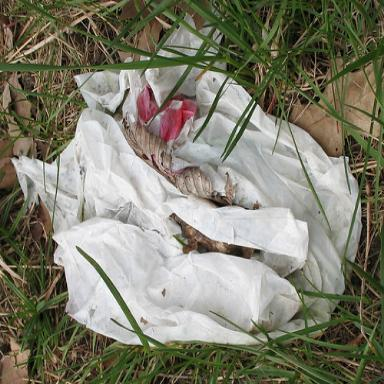plasticbag: (11, 12, 367, 344)
